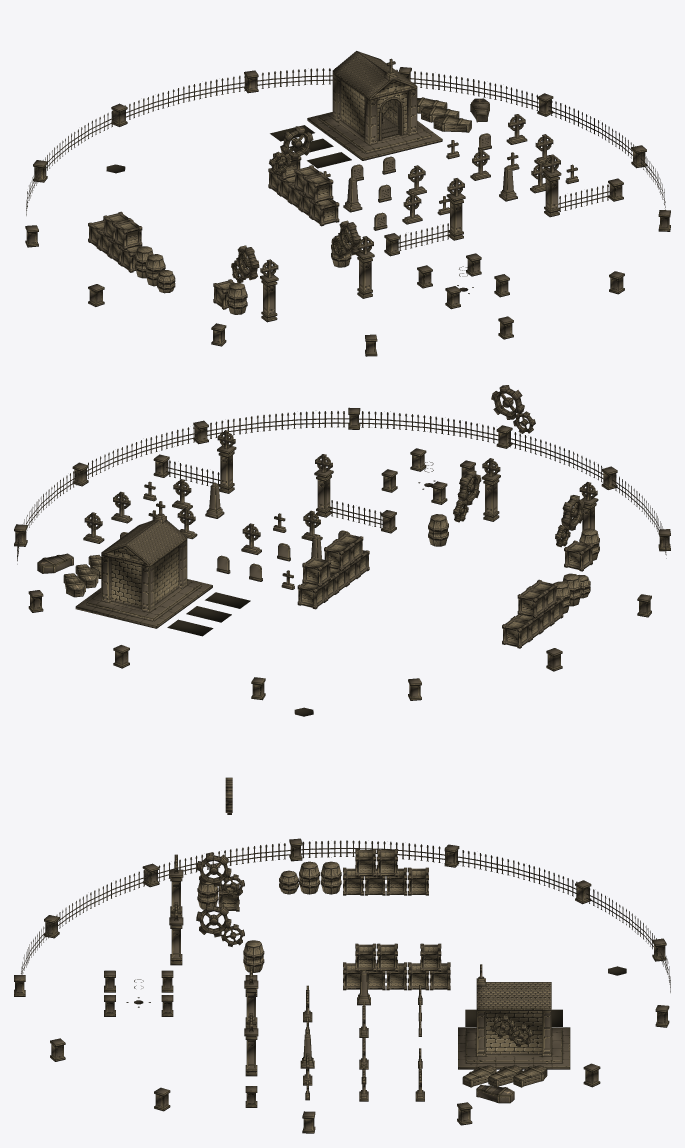
Rendered from Graveyard.obj.
3 renders of one model, top to bottom at view 1: azimuth 30°, elevation 25°; view 2: azimuth 150°, elevation 25°; view 3: azimuth 270°, elevation 25°, orthographic.
Visible parts, largest first — view 1: Diorama; view 2: Diorama; view 3: Diorama.
Boxes of the visible parts, x1,y1,x2,y2 form: Diorama: [25, 51, 670, 356]; Diorama: [14, 385, 670, 716]; Diorama: [14, 777, 670, 1133].
Size of the model in its own units: 35.07 by 12.19 by 35.
